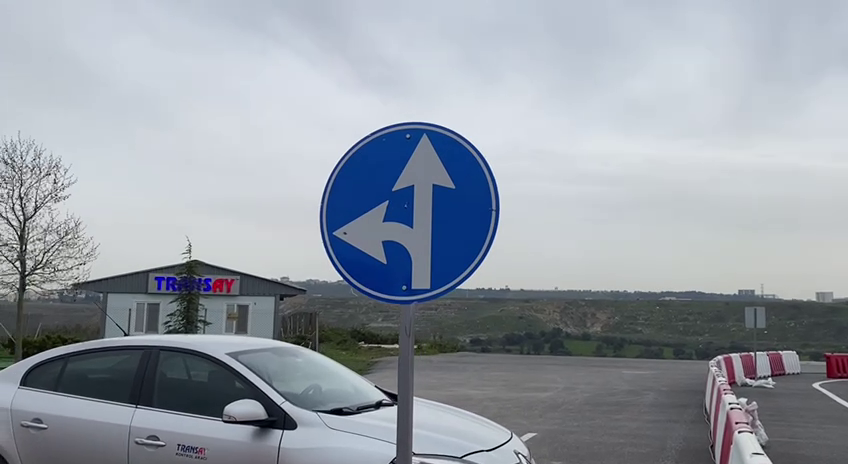forwardAndLeft: (315, 115, 504, 308)
